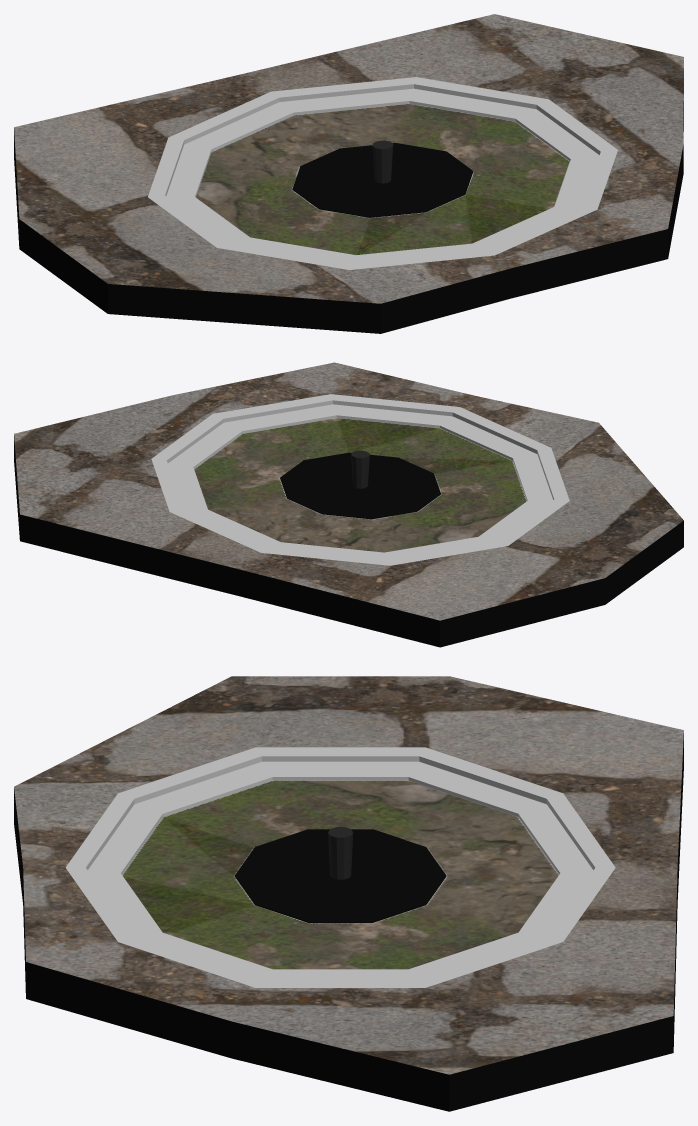
File: ground.dae
3 views of the same model, one above another, from view 1: azimuth 30°, elevation 25°; view 2: azimuth 150°, elevation 25°; view 3: azimuth 270°, elevation 25° (orthographic). The views are drawn at different scales.
Visible parts, largest first — view 1: Ground-col; view 2: Ground-col; view 3: Ground-col.
Boxes of the visible parts, <box> form: Ground-col: <box>14,14,683,333</box>; Ground-col: <box>14,362,683,647</box>; Ground-col: <box>14,676,683,1111</box>.
Size of the model in its own units: 29.08 by 20.66 by 2.46.
